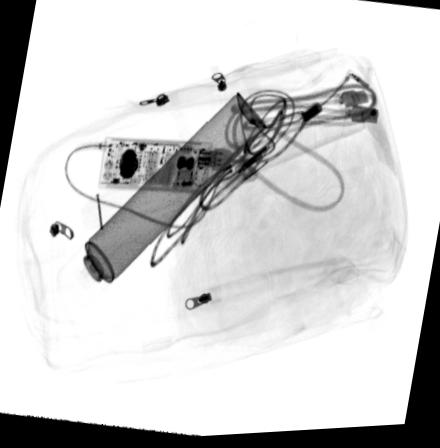Sprayer: (56, 93, 269, 311)
